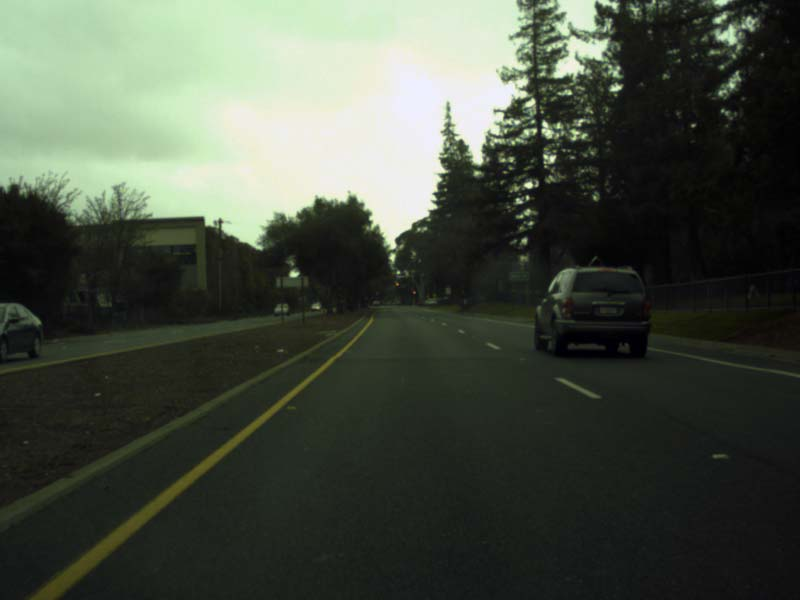Red: (394, 279, 399, 287), (412, 288, 417, 296), (375, 288, 379, 296)
